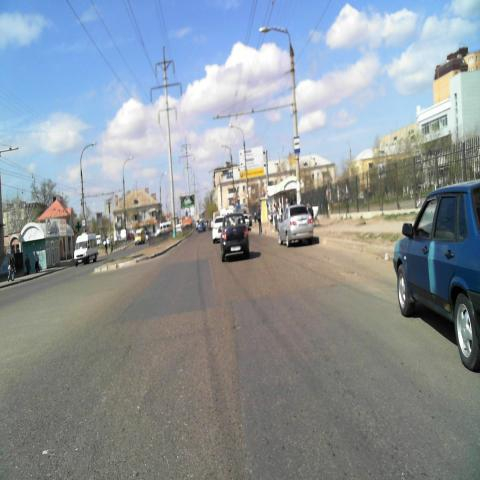5_15_1: (226, 172, 234, 181)
5_16: (294, 137, 301, 155)
